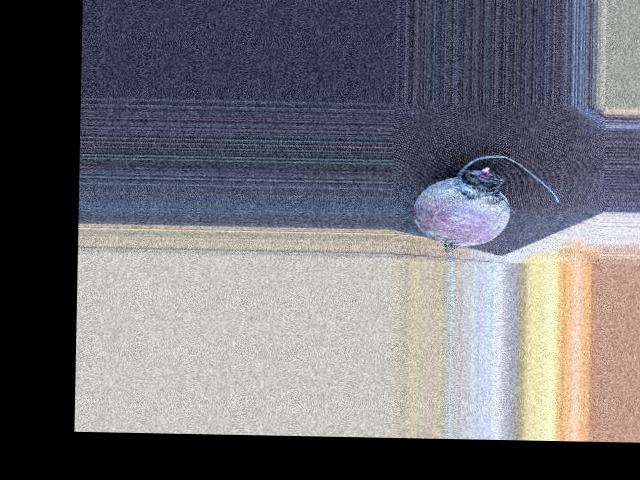beet: (411, 153, 560, 264)
